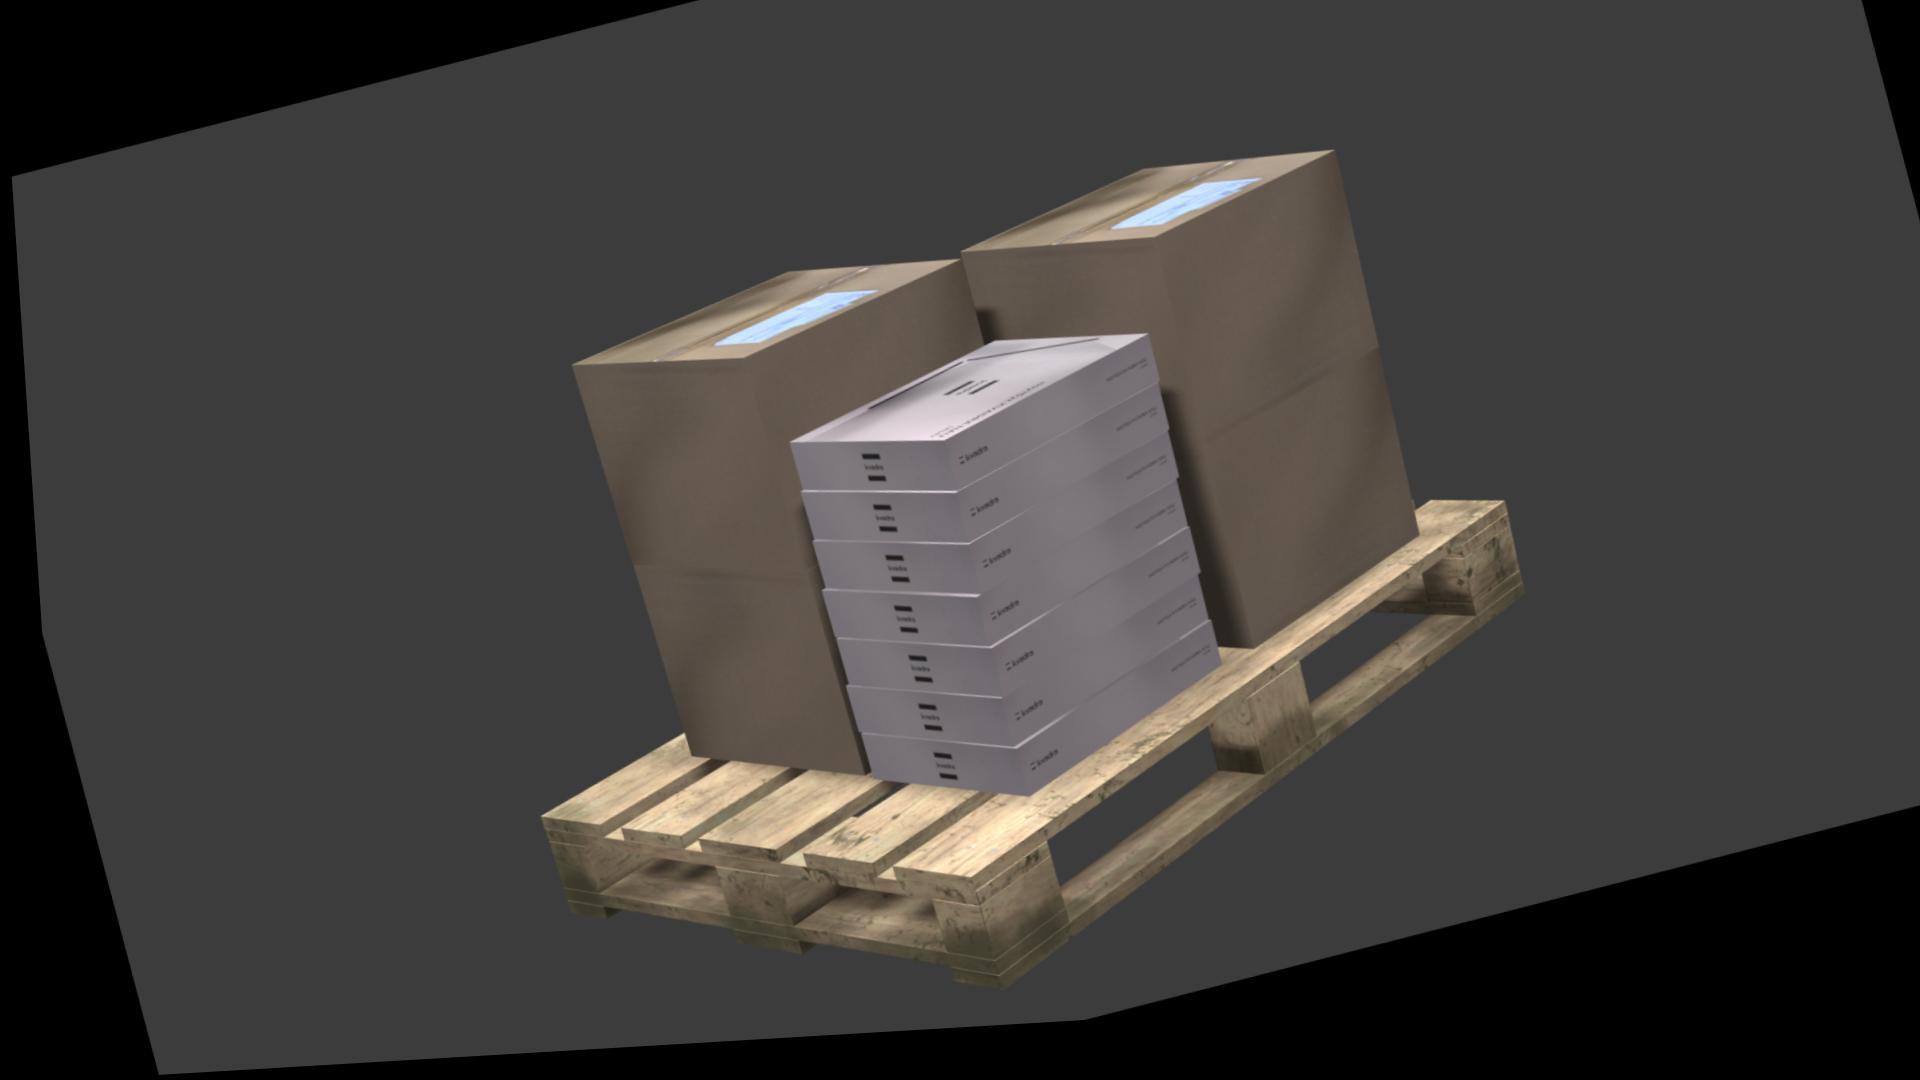group_box_left: (566, 273, 978, 581), (957, 167, 1372, 464), (1168, 364, 1412, 665), (626, 575, 859, 786)
group_box_top: (568, 271, 955, 371), (958, 167, 1331, 264)
laptop_left: (835, 587, 1199, 759), (851, 637, 1212, 808), (826, 541, 1192, 708), (814, 494, 1179, 657), (806, 446, 1171, 605), (794, 398, 1163, 554), (784, 349, 1153, 501)
laptop_top: (786, 350, 1142, 452)
palet: (527, 515, 1519, 1005)
